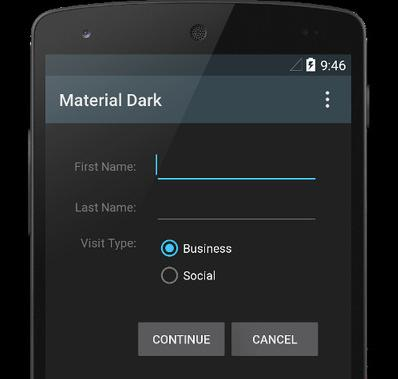button: (135, 320, 225, 359)
field: (155, 153, 317, 181)
field_line: (155, 199, 317, 223), (228, 320, 318, 359)
field_line_with_label: (73, 151, 320, 183), (75, 197, 320, 225)
radio: (158, 265, 181, 286), (157, 238, 180, 258)
radio_with_label: (155, 236, 232, 259), (156, 264, 215, 287)
